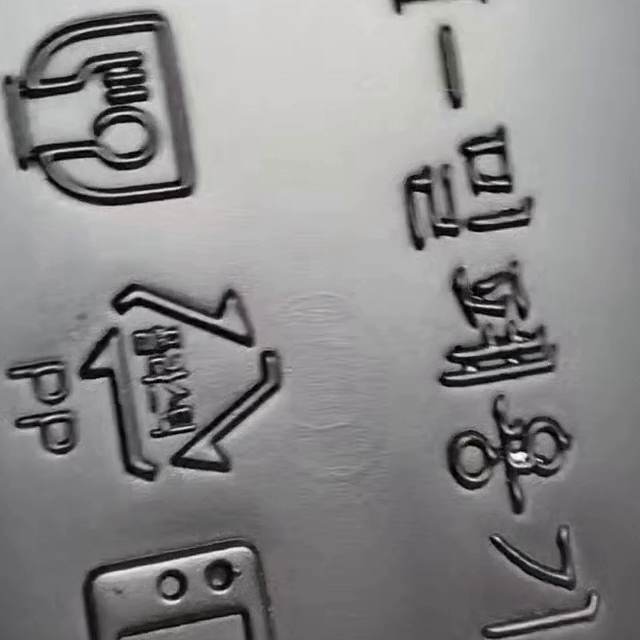Plastic: (80, 283, 282, 480)
